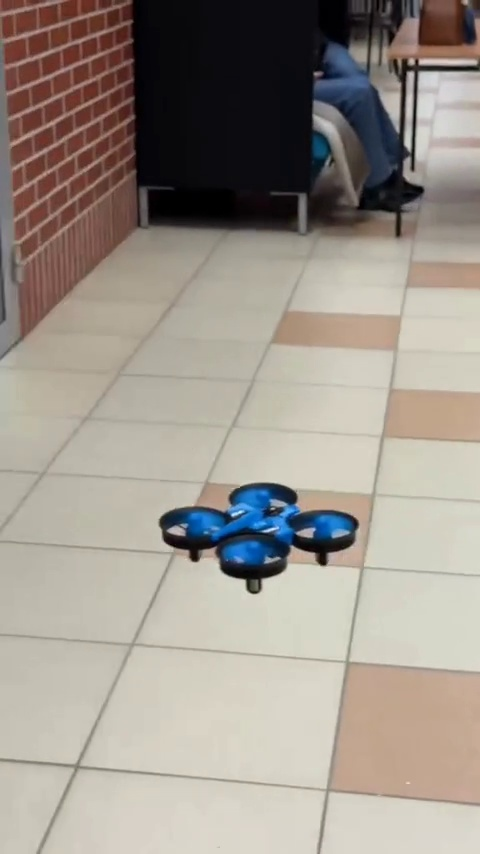drone: (161, 490, 361, 601)
